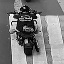mobil: (10, 12, 55, 57)
